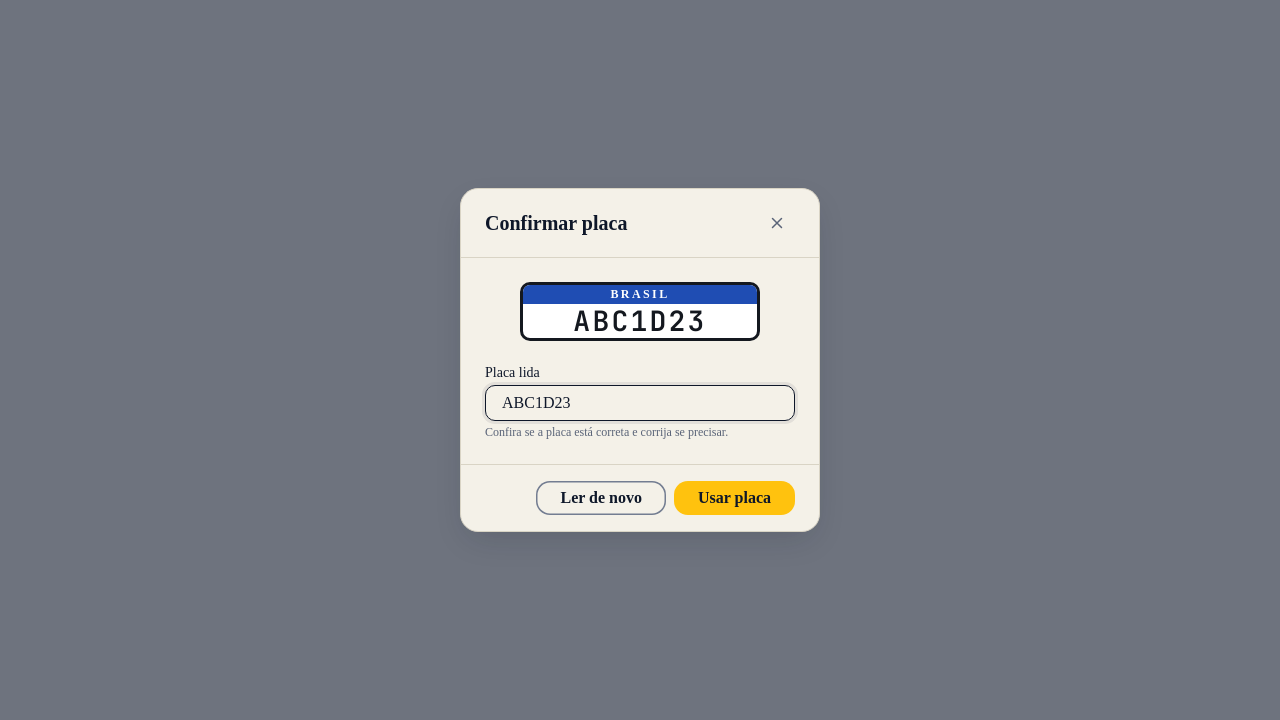
Test: LeitorPlacaModal › volta a ler com 'Ler de novo'
This screenshot has width=1280, height=720.
Click the button "Ler de novo". click: {"x": 601, "y": 498}
box: [536,481,666,515]
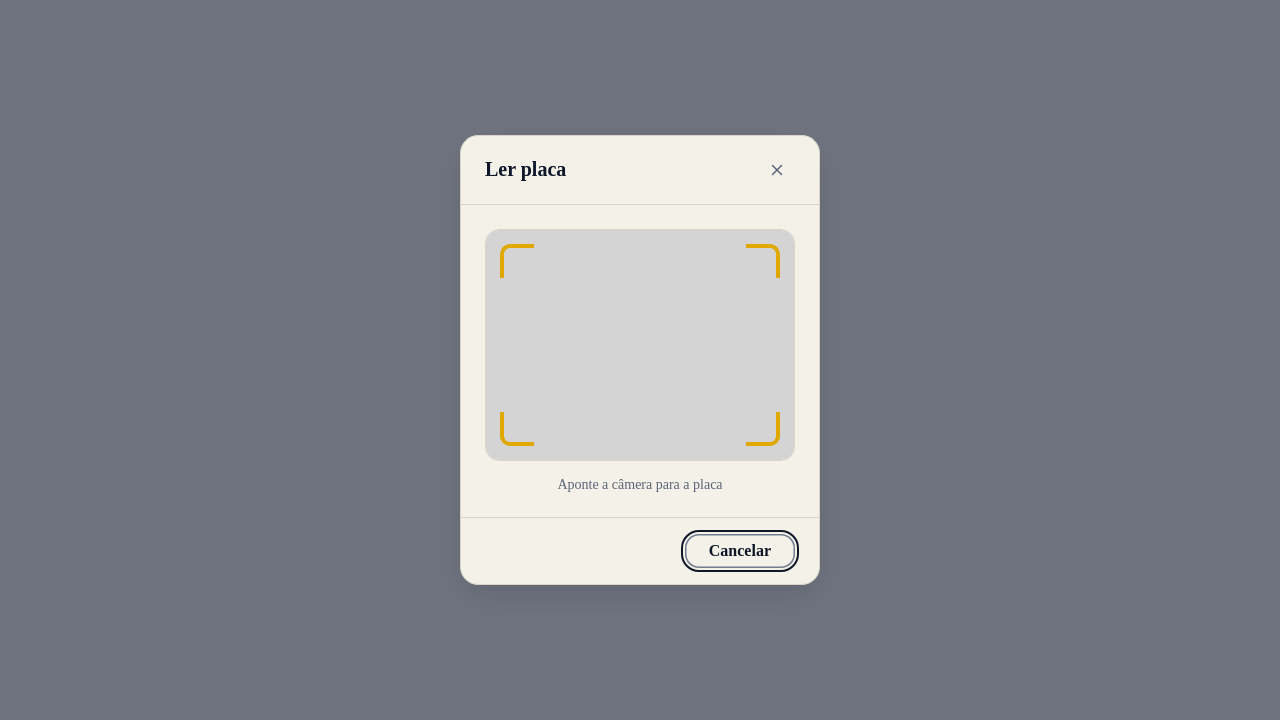
Expected: the heading "Ler placa" is shown, [485,158,566,181]
